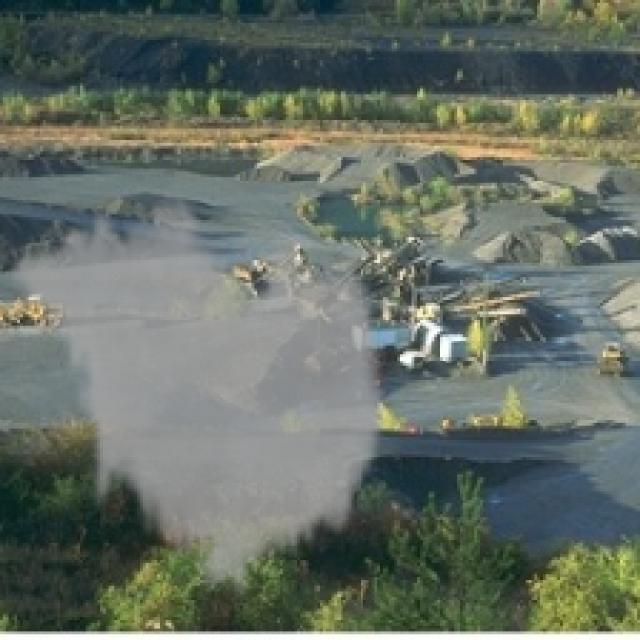Smoke: (9, 183, 392, 603)
